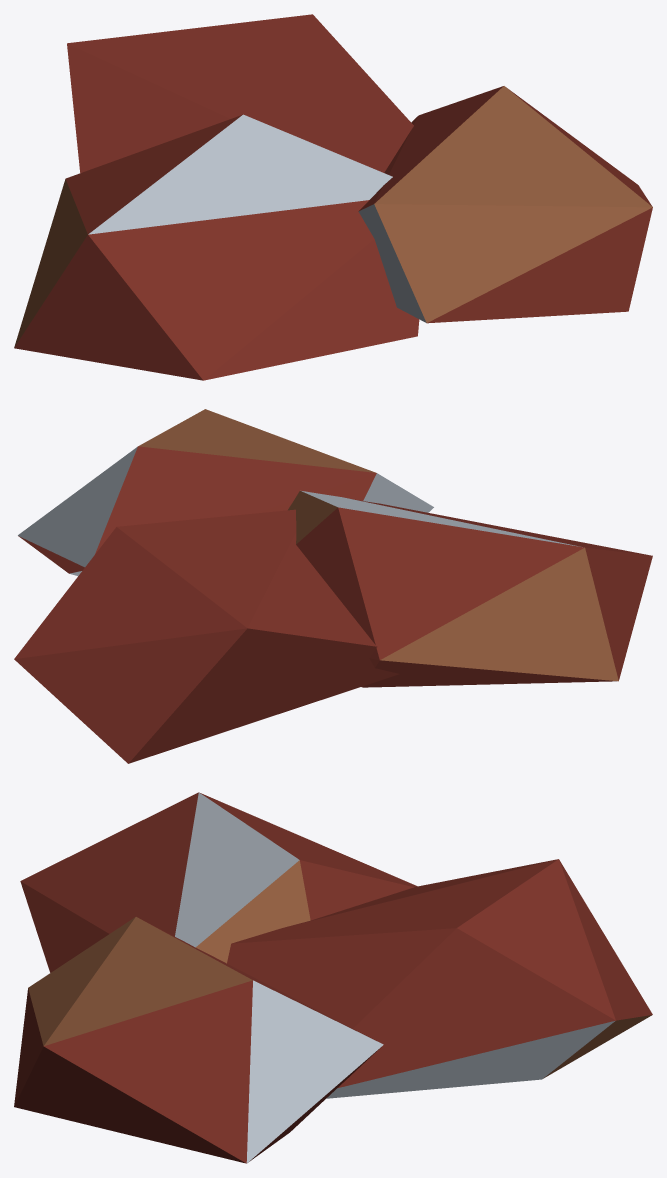
File: minerai_fer_2.glb
The picture shows the model from 3 angles, top to bottom: view 1: azimuth 30°, elevation 25°; view 2: azimuth 150°, elevation 25°; view 3: azimuth 270°, elevation 25°; orthographic projection. The views are drawn at different scales.
Parts seen in each view (by area): view 1: minerai_hematite.004, minerai_rouille.004, minerai_fer_metal.004; view 2: minerai_hematite.004, minerai_rouille.004, minerai_fer_metal.004; view 3: minerai_hematite.004, minerai_fer_metal.004, minerai_rouille.004.
Boxes of the visible parts, x1,y1,x2,y2 form: minerai_hematite.004: (14, 14, 652, 380); minerai_rouille.004: (14, 86, 652, 347); minerai_fer_metal.004: (88, 114, 426, 322); minerai_hematite.004: (14, 446, 652, 763); minerai_rouille.004: (138, 409, 618, 681); minerai_fer_metal.004: (18, 446, 582, 575); minerai_hematite.004: (14, 792, 652, 1163); minerai_fer_metal.004: (175, 792, 614, 1163); minerai_rouille.004: (28, 860, 651, 1078).
Bounding box in the file's own units: 0.5537 × 0.1237 × 0.5105.
